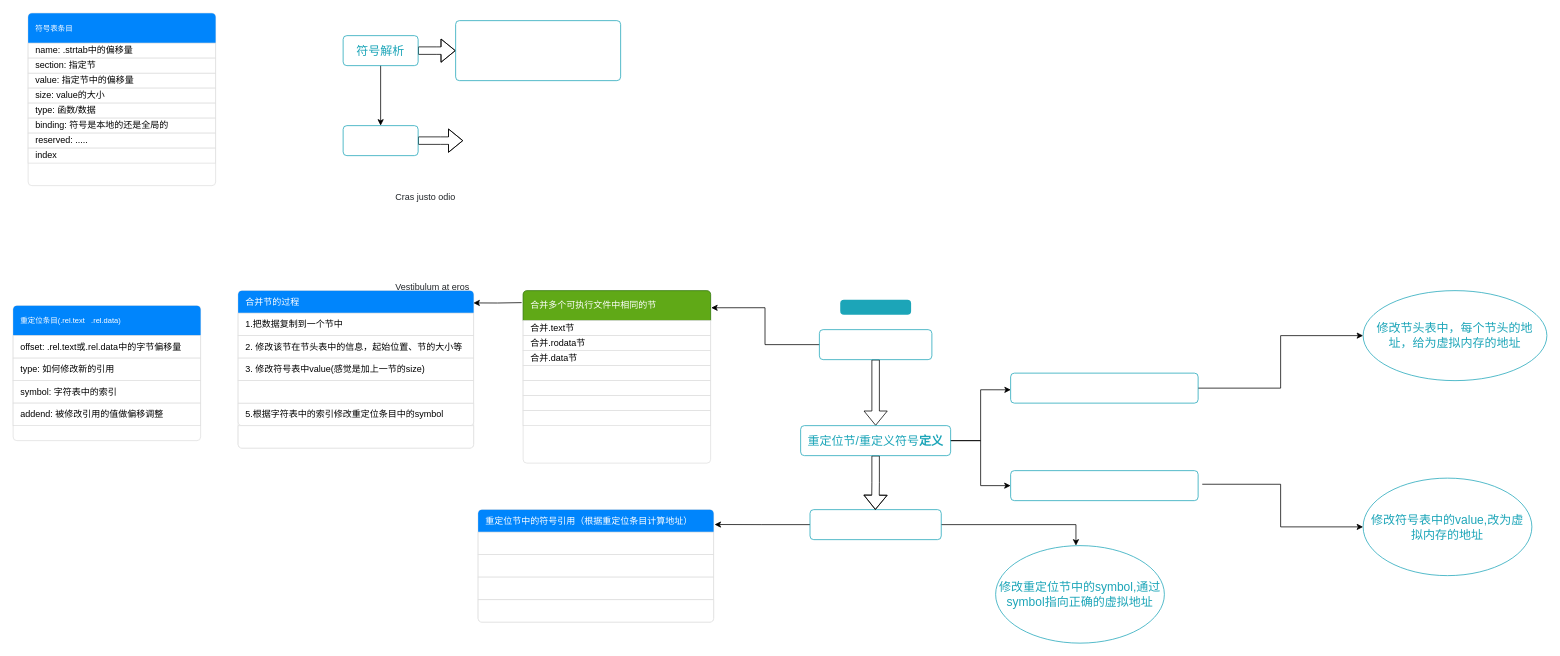
Some shapes in this 1560 by 656 pixel diagram are drawn without their labels. Each missing label, with the centre of its shape:
"1.将运行内存地址赋给新的聚合节" belongs at (1104,387).
"2.将运行内存地址赋给每个符号" belongs at (1104,485).
"4. 修改重定位条目中的offset(感觉是加上之前节的size)" belongs at (355,391).
"6.下一个节..." belongs at (355,436).
"修改重定位条目中的symbol,使其指向符号表中的一个符号" belongs at (538,50).
"合并相同类型的节" belongs at (875,344).
"重定位" belongs at (380,140).
"重定位节中的符号引用" belongs at (875,524).
"重定位过程" belongs at (875,306).
